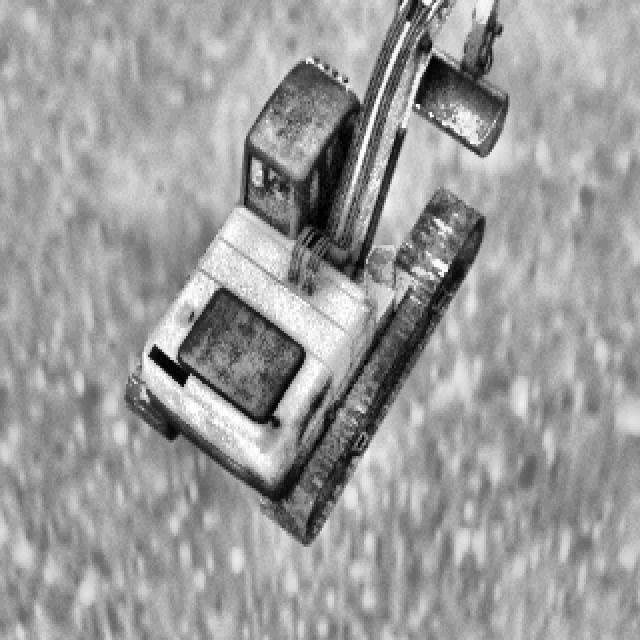excavator: (124, 0, 562, 544)
